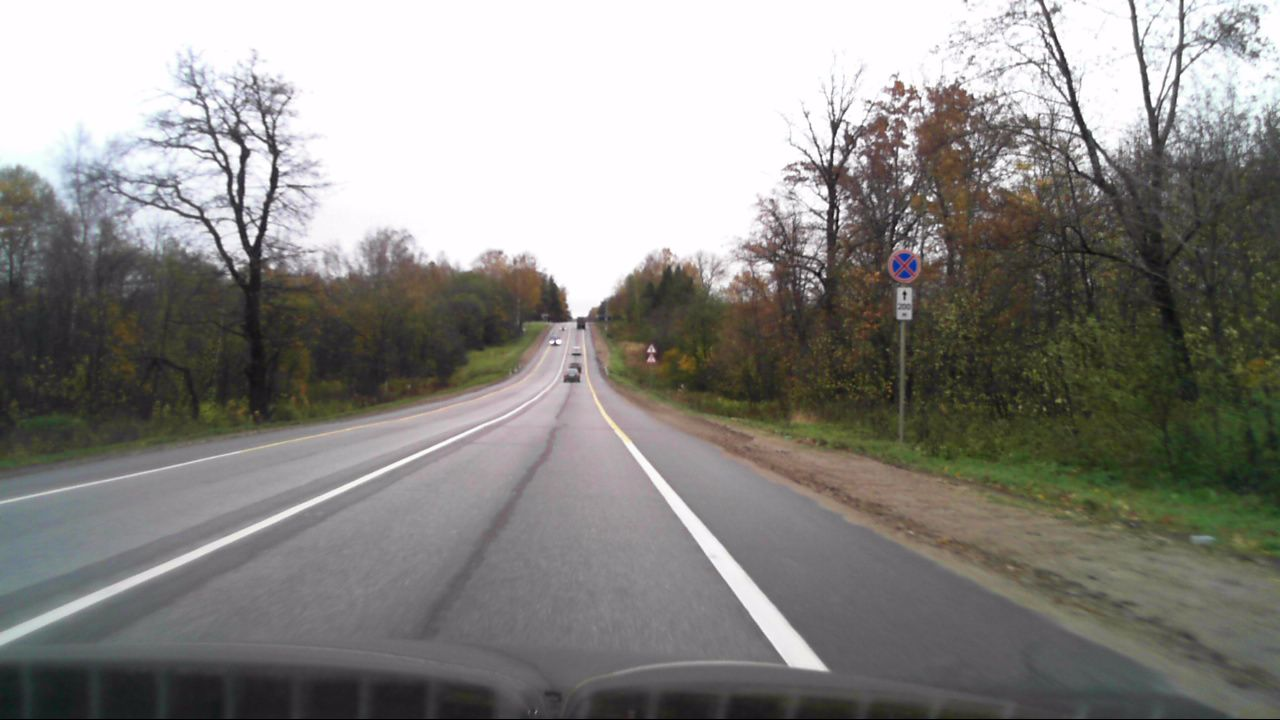No Parking: (888, 249, 920, 283)
